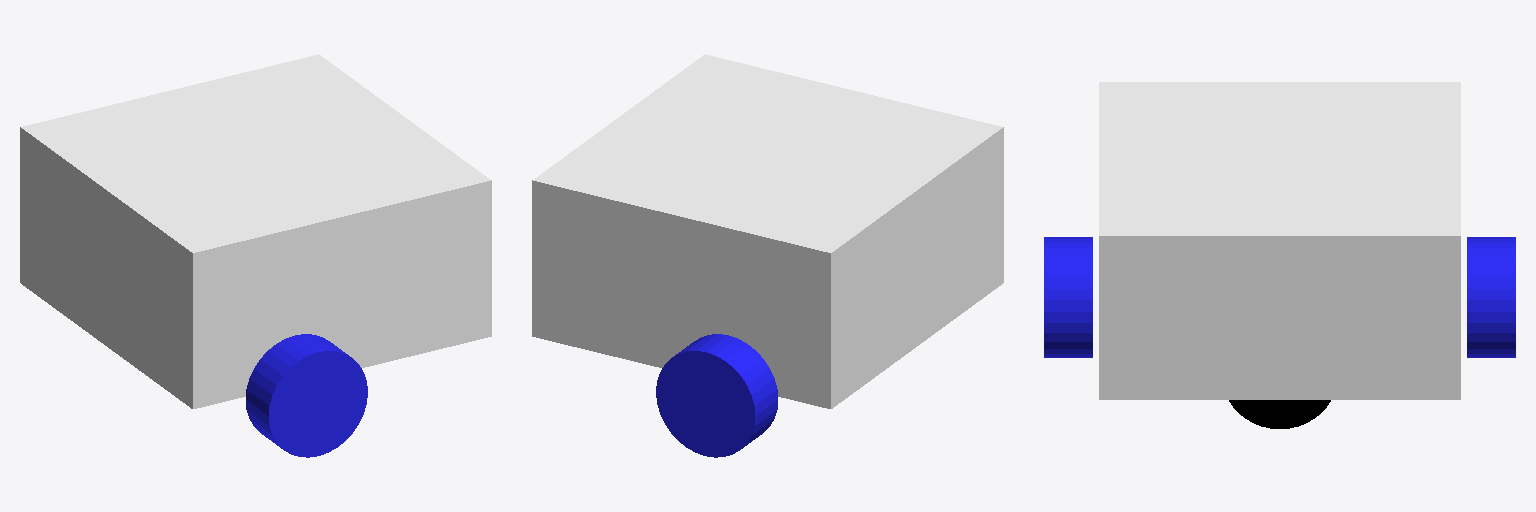
The robot description file, URDF, robot "robot":
<?xml version="1.0" ?>
<!-- =================================================================================== -->
<!-- |    This document was autogenerated by xacro from robot.urdf.xacro               | -->
<!-- |    EDITING THIS FILE BY HAND IS NOT RECOMMENDED                                 | -->
<!-- =================================================================================== -->
<robot name="robot">
  <!-- Specify some standard inertial calculations https://en.wikipedia.org/wiki/List_of_moments_of_inertia -->
  <!-- These make use of xacro's mathematical functionality -->
  <material name="white">
    <color rgba="1 1 1 1"/>
  </material>
  <material name="orange">
    <color rgba="1 0.3 0.1 1"/>
  </material>
  <material name="blue">
    <color rgba="0.2 0.2 1 1"/>
  </material>
  <material name="black">
    <color rgba="0 0 0 1"/>
  </material>
  <!-- BASE LINK -->
  <link name="base_link">

    </link>
  <!-- CHASSIS LINK -->
  <joint name="chassis_joint" type="fixed">
    <parent link="base_link"/>
    <child link="chassis"/>
    <origin xyz="-0.1 0 0"/>
  </joint>
  <link name="chassis">
    <visual>
      <origin xyz="0.15 0 0.075"/>
      <geometry>
        <box size="0.3 0.3 0.15"/>
      </geometry>
      <material name="white"/>
    </visual>
    <collision>
      <origin xyz="0.15 0 0.075"/>
      <geometry>
        <box size="0.3 0.3 0.15"/>
      </geometry>
    </collision>
    <inertial>
      <origin rpy="0 0 0" xyz="0.15 0 0.075"/>
      <mass value="0.5"/>
      <inertia ixx="0.004687499999999999" ixy="0.0" ixz="0.0" iyy="0.004687499999999999" iyz="0.0" izz="0.0075"/>
    </inertial>
  </link>
  <!-- LEFT WHEEL LINK -->
  <joint name="left_wheel_joint" type="continuous">
    <parent link="base_link"/>
    <child link="left_wheel"/>
    <origin rpy="-1.5707963267948966 0 0" xyz="0 0.175 0"/>
    <axis xyz="0 0 1"/>
  </joint>
  <link name="left_wheel">
    <visual>
      <geometry>
        <cylinder length="0.04" radius="0.05"/>
      </geometry>
      <material name="blue"/>
    </visual>
    <collision>
      <geometry>
        <cylinder length="0.04" radius="0.05"/>
      </geometry>
    </collision>
    <inertial>
      <origin rpy="0 0 0" xyz="0 0 0"/>
      <mass value="0.1"/>
      <inertia ixx="7.583333333333335e-05" ixy="0.0" ixz="0.0" iyy="7.583333333333335e-05" iyz="0.0" izz="0.00012500000000000003"/>
    </inertial>
  </link>
  <!-- RIGHT WHEEL LINK -->
  <joint name="right_wheel_joint" type="continuous">
    <parent link="base_link"/>
    <child link="right_wheel"/>
    <origin rpy="1.5707963267948966 0 0" xyz="0 -0.175 0"/>
    <axis xyz="0 0 -1"/>
  </joint>
  <link name="right_wheel">
    <visual>
      <geometry>
        <cylinder length="0.04" radius="0.05"/>
      </geometry>
      <material name="blue"/>
    </visual>
    <collision>
      <geometry>
        <cylinder length="0.04" radius="0.05"/>
      </geometry>
    </collision>
    <inertial>
      <origin rpy="0 0 0" xyz="0 0 0"/>
      <mass value="0.1"/>
      <inertia ixx="7.583333333333335e-05" ixy="0.0" ixz="0.0" iyy="7.583333333333335e-05" iyz="0.0" izz="0.00012500000000000003"/>
    </inertial>
  </link>
  <!-- CASTER WHEEL LINK -->
  <joint name="caster_wheel_joint" type="fixed">
    <parent link="chassis"/>
    <child link="caster_wheel"/>
    <origin xyz="0.24 0 0"/>
  </joint>
  <link name="caster_wheel">
    <visual>
      <geometry>
        <sphere radius="0.05"/>
      </geometry>
      <material name="black"/>
    </visual>
    <collision>
      <geometry>
        <sphere radius="0.05"/>
      </geometry>
    </collision>
    <inertial>
      <origin rpy="0 0 0" xyz="0 0 0"/>
      <mass value="0.1"/>
      <inertia ixx="0.00010000000000000005" ixy="0.0" ixz="0.0" iyy="0.00010000000000000005" iyz="0.0" izz="0.00010000000000000005"/>
    </inertial>
  </link>
</robot>

--- What the picture shows (computed from the rendered views, not written in the file) ---
Views: 3 orthographic renders of the robot side by side, from view 1: azimuth 30°, elevation 25°; view 2: azimuth 150°, elevation 25°; view 3: azimuth 270°, elevation 25°.
Model robot with 5 links and 4 joints (2 continuous, 2 fixed), rooted at base_link, posed every joint at zero.
Visible links, largest first — view 1: chassis, right_wheel; view 2: chassis, left_wheel; view 3: chassis, left_wheel, right_wheel, caster_wheel.
Link boxes in pixels (bbox=[...]): chassis: bbox=[20, 54, 491, 408]; right_wheel: bbox=[246, 334, 367, 457]; chassis: bbox=[532, 54, 1003, 408]; left_wheel: bbox=[656, 334, 777, 457]; chassis: bbox=[1099, 82, 1460, 399]; left_wheel: bbox=[1467, 237, 1515, 357]; right_wheel: bbox=[1044, 237, 1092, 357]; caster_wheel: bbox=[1229, 400, 1330, 428].
Size in the robot's own frame: 0.3 by 0.39 by 0.2 metres.
Geometry: primitives only (box / cylinder / sphere), no mesh files.
